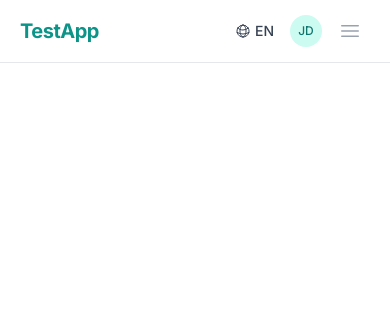
Scenario: NavBar › user menu dropdown › renders user menu items in mobile panel
Click the button named "Toggle navigation" at (350, 31), box [330, 11, 370, 51]
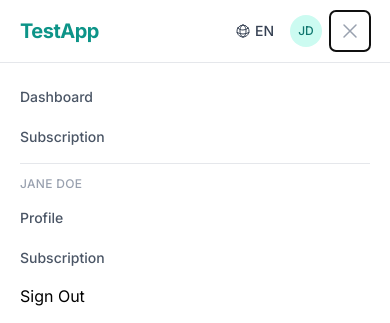
Check: the text "Jane Doe" is shown, box [20, 176, 82, 191]
